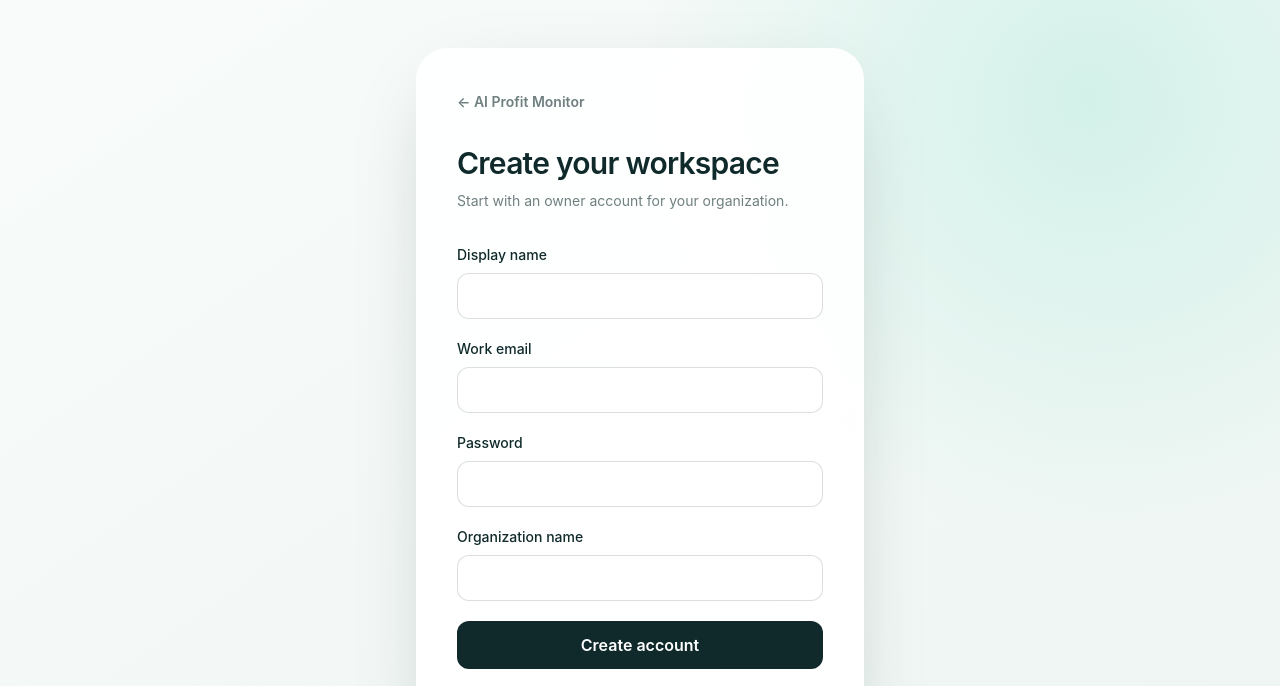
Test: AuthForm › validates registration before submitting
This screenshot has width=1280, height=686.
Type "Owner" into the field labelled "Display name" at (640, 296), box [457,273,823,319]
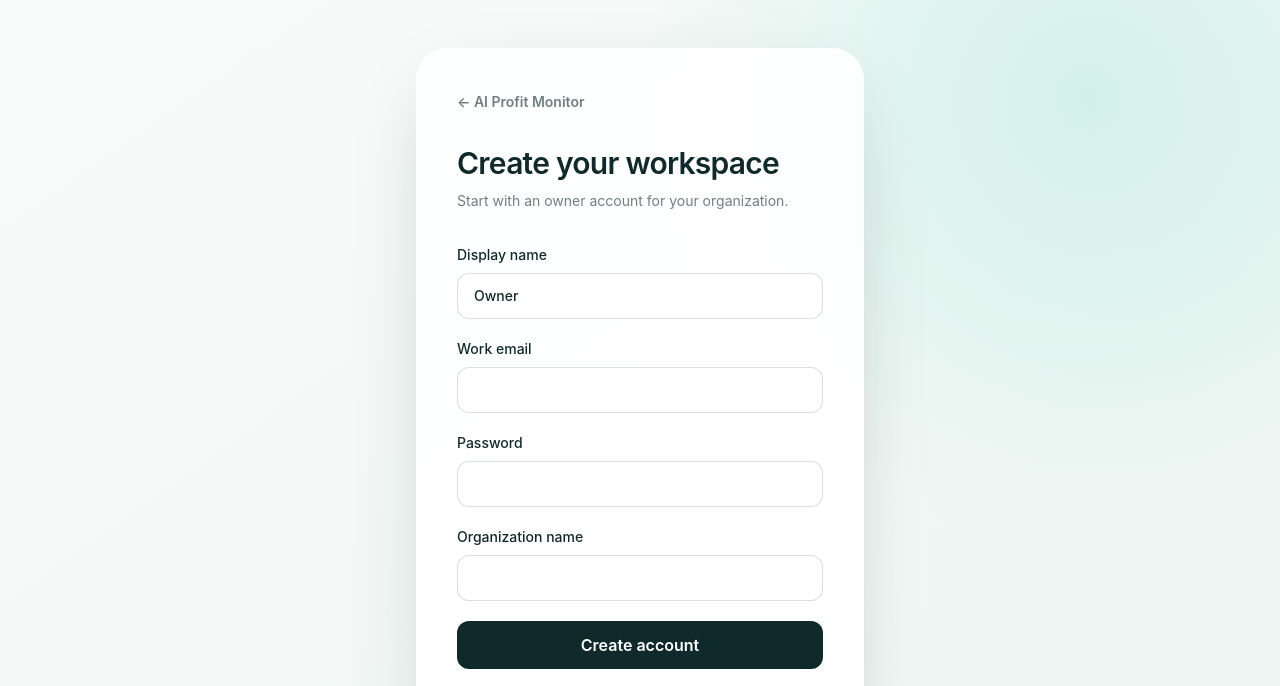
Type "owner@example.com" into the field labelled "Work email" at (640, 390), box [457,367,823,413]
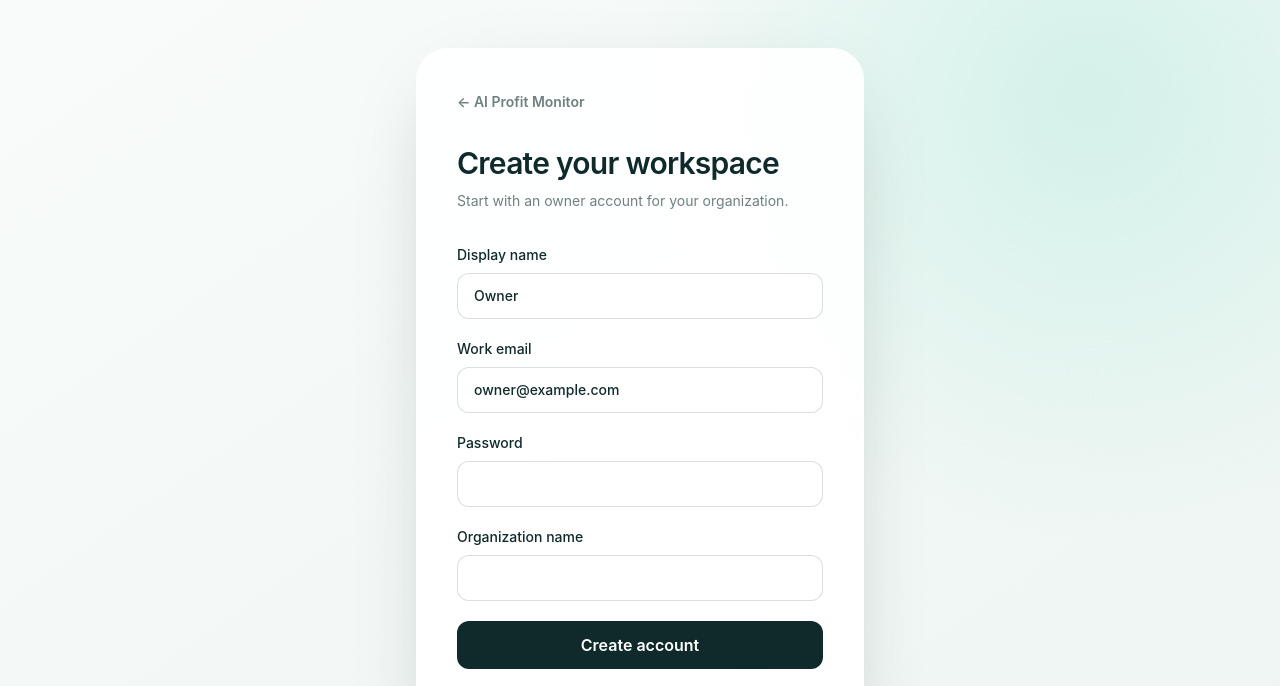
Type "short" into the password field labelled "Password" at (640, 484), box [457,461,823,507]
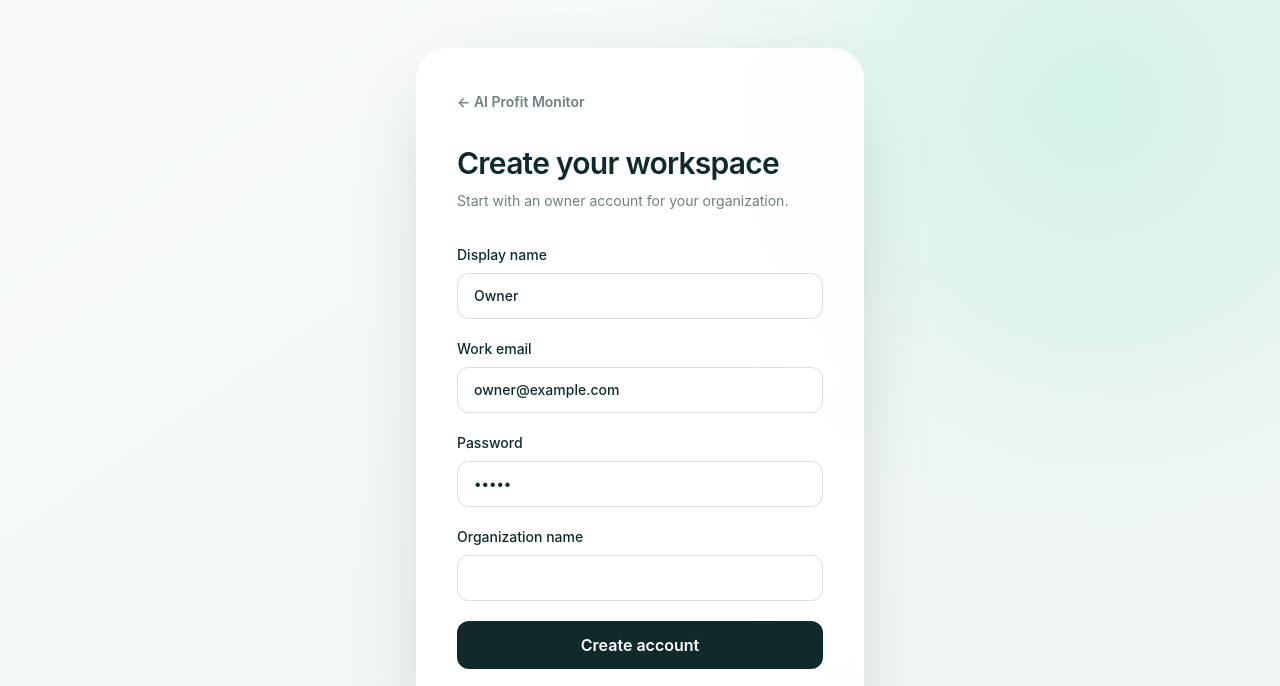
Type "Acme" into the field labelled "Organization name" at (640, 578), box [457,555,823,601]
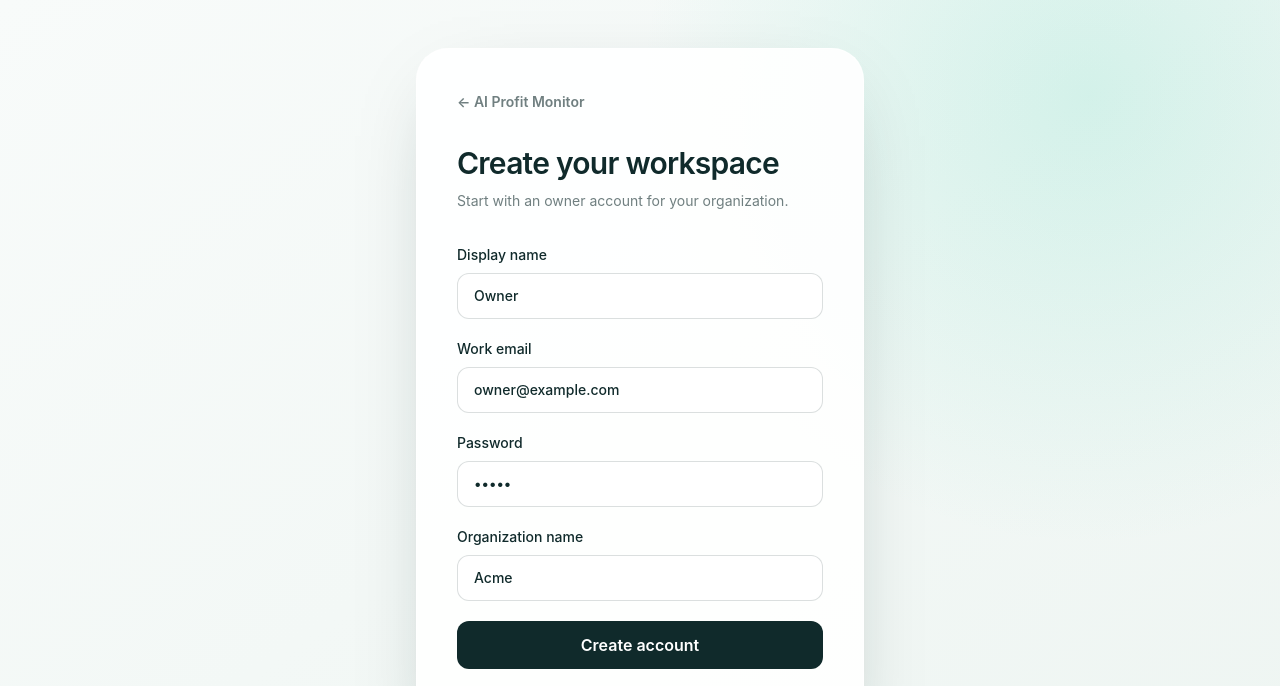
Click the button "Create account" at (640, 645), box [457,621,823,669]
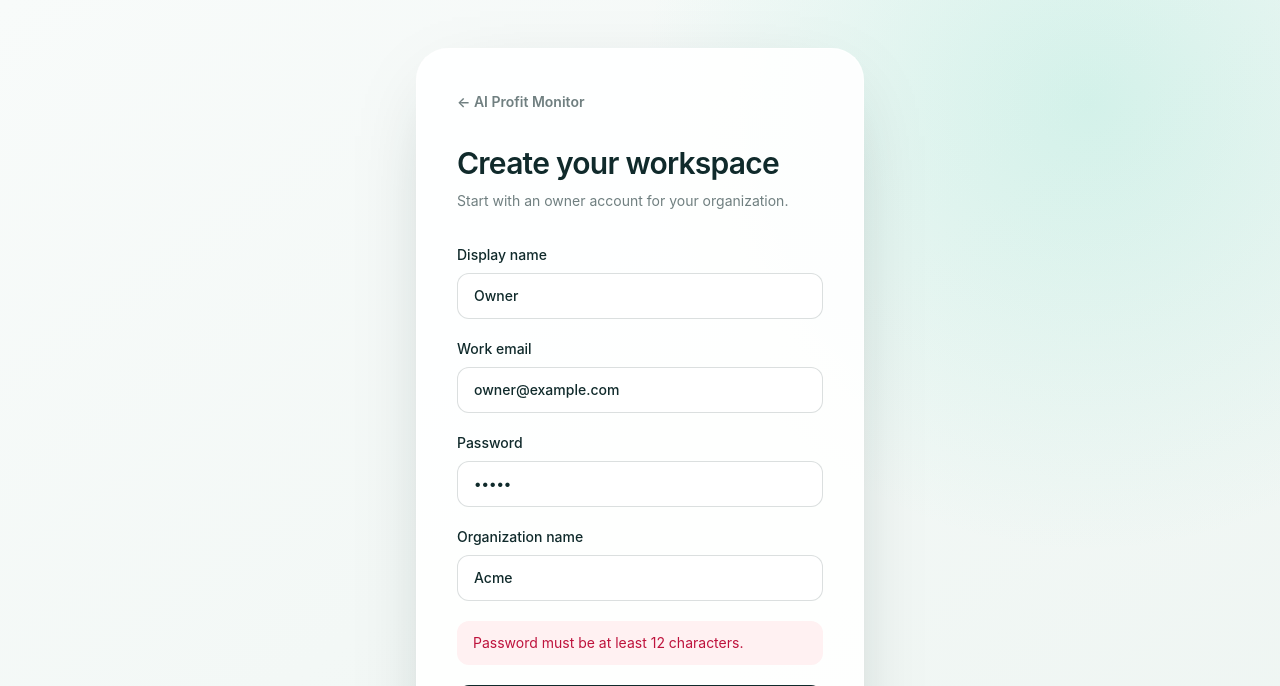
Expected: the message shows "at least 12 characters", [473,634,743,651]
